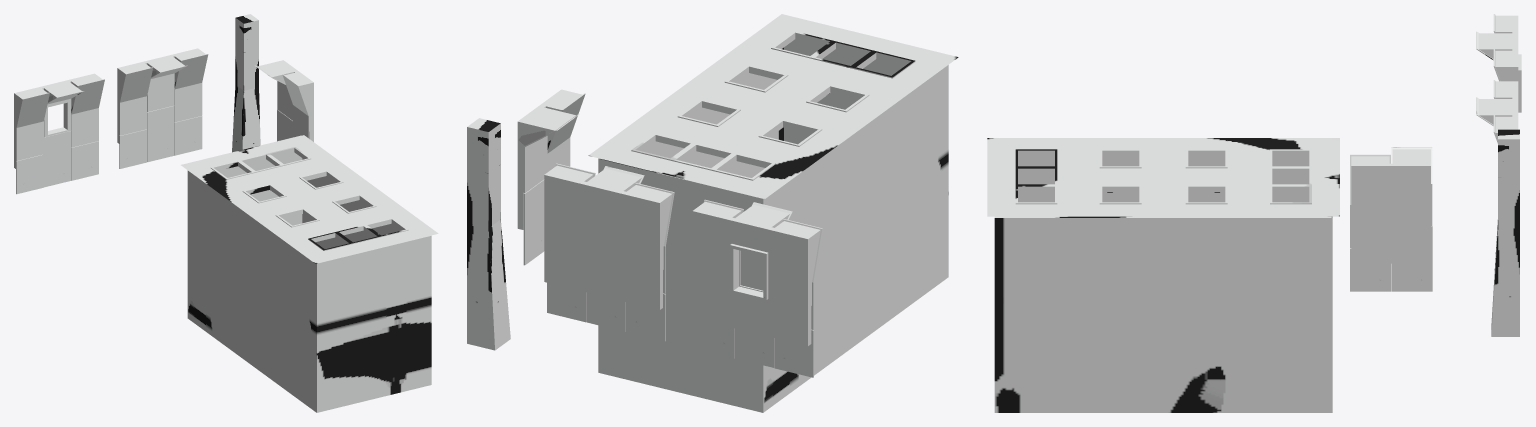
Rendered from For Texturing.FBX.
The picture shows the model from 3 angles, left to right: view 1: azimuth 30°, elevation 25°; view 2: azimuth 150°, elevation 25°; view 3: azimuth 270°, elevation 25°; orthographic projection. The views are drawn at different scales.
Parts seen in each view (by area): view 1: Object042; view 2: Object042; view 3: Object042.
Boxes of the visible parts, bbox=[...] form: Object042: bbox=[14, 14, 438, 412]; Object042: bbox=[467, 14, 958, 412]; Object042: bbox=[987, 14, 1521, 412].
Bounding box in the file's own units: 50.04 × 44.02 × 74.49.
